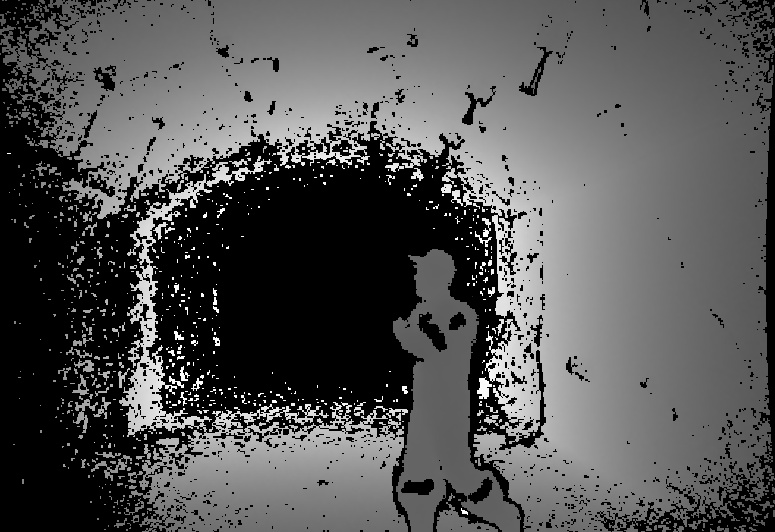person: (392, 249, 522, 532)
